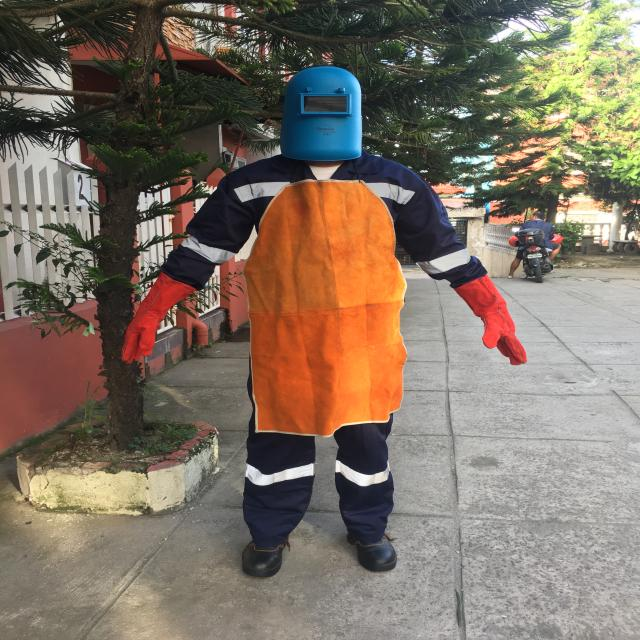with_helmet: (280, 66, 362, 161)
